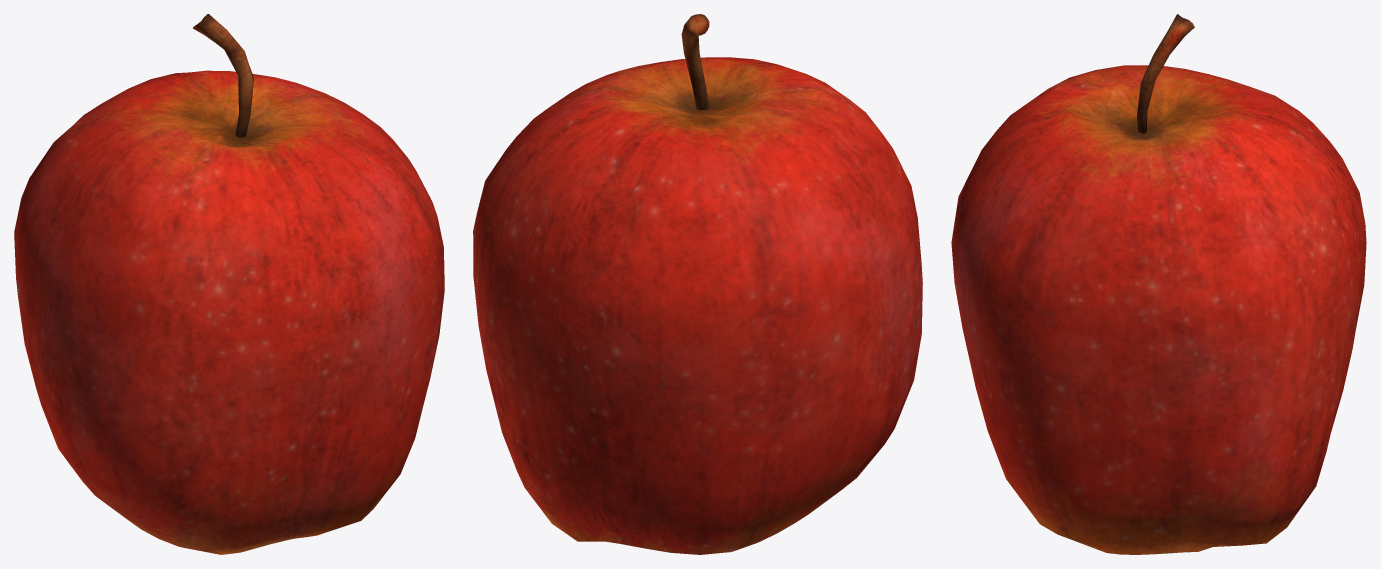
Rendered from Apple.glb.
The picture shows the model from 3 angles, left to right: view 1: azimuth 30°, elevation 25°; view 2: azimuth 150°, elevation 25°; view 3: azimuth 270°, elevation 25°; orthographic projection. The views are drawn at different scales.
Parts seen in each view (by area): view 1: Base_LP, Head_LP; view 2: Base_LP, Head_LP; view 3: Base_LP, Head_LP.
Boxes of the visible parts, <box> form: Base_LP: <box>14,70,444,554</box>; Head_LP: <box>193,14,253,137</box>; Base_LP: <box>473,57,922,554</box>; Head_LP: <box>681,14,709,109</box>; Base_LP: <box>951,65,1366,554</box>; Head_LP: <box>1137,14,1194,133</box>.
Size of the model in its own units: 0.01 by 0.0132 by 0.00999.
2 materials, 2 textured.
